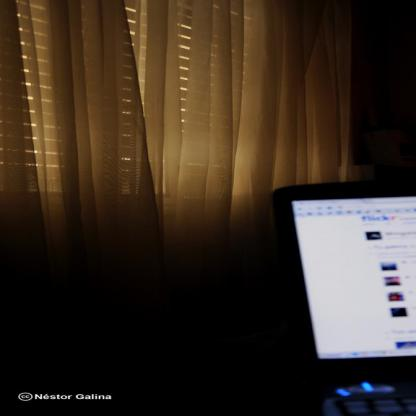board: (267, 181, 413, 416)
